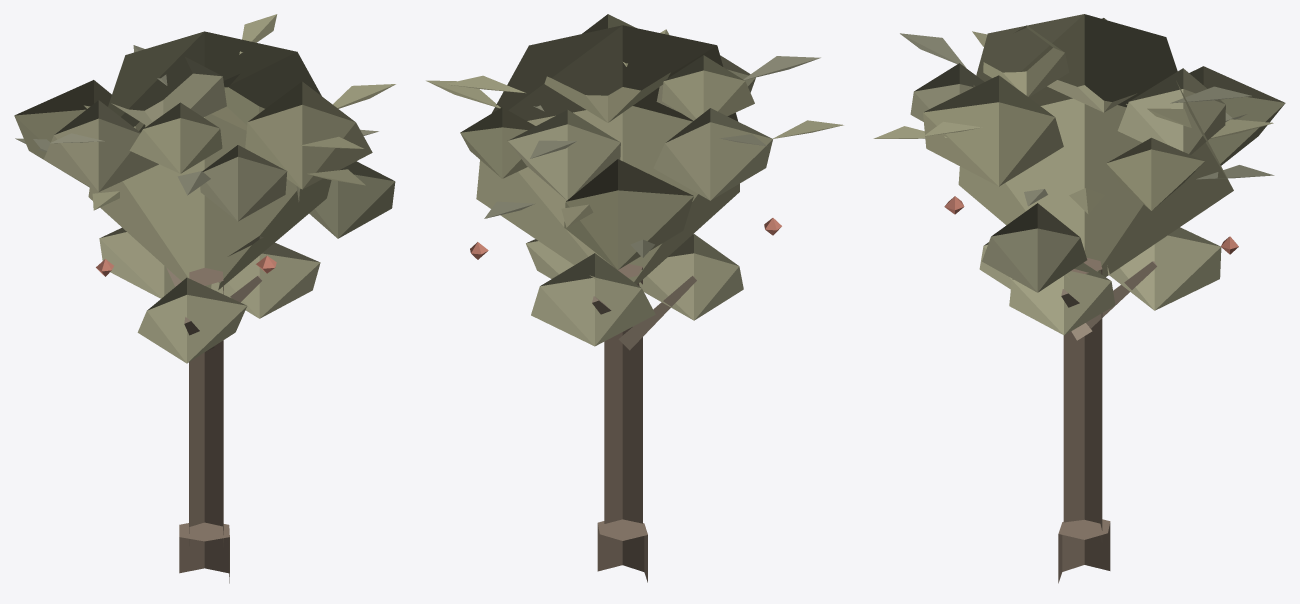
The model's file is shu.yinxing__winter.glb.
3 renders of one model, left to right at view 1: azimuth 30°, elevation 25°; view 2: azimuth 150°, elevation 25°; view 3: azimuth 270°, elevation 25°, orthographic. The views are drawn at different scales.
Parts seen in each view (by area): view 1: shu.yinxing__winter; view 2: shu.yinxing__winter; view 3: shu.yinxing__winter.
Boxes of the visible parts, x1=… form: shu.yinxing__winter: x1=14, y1=14, x2=395, y2=583; shu.yinxing__winter: x1=426, y1=14, x2=843, y2=582; shu.yinxing__winter: x1=873, y1=14, x2=1285, y2=583.
Bounding box in the file's own units: 9.93 × 14.35 × 9.57.
